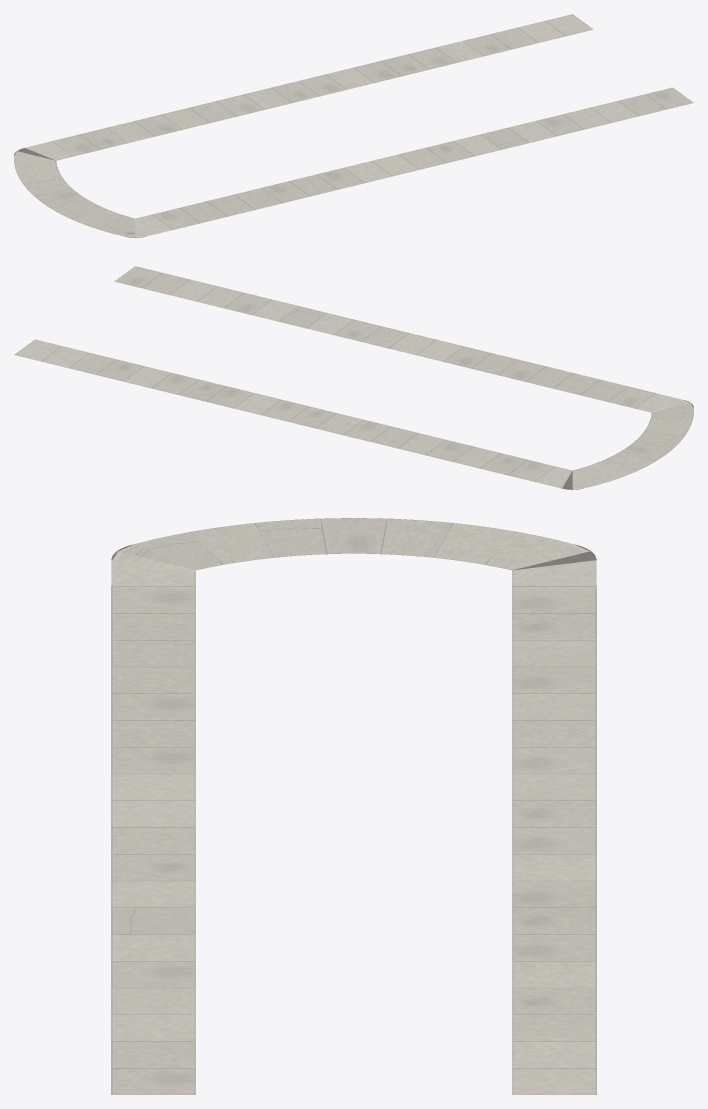
The model's file is paving_p1_CulDeSacEast.gltf.
3 renders of one model, top to bottom at view 1: azimuth 30°, elevation 25°; view 2: azimuth 150°, elevation 25°; view 3: azimuth 270°, elevation 25°, orthographic. The views are drawn at different scales.
Visible parts, largest first — view 1: paving_p1_CulDeSacEast; view 2: paving_p1_CulDeSacEast; view 3: paving_p1_CulDeSacEast.
Part boxes in pixels (bbox=[...]): paving_p1_CulDeSacEast: bbox=[14, 14, 693, 237]; paving_p1_CulDeSacEast: bbox=[14, 266, 693, 489]; paving_p1_CulDeSacEast: bbox=[111, 518, 596, 1094].
Bounding box in the file's own units: 32.36 × 0 × 11.5.
1 material, 1 textured.
